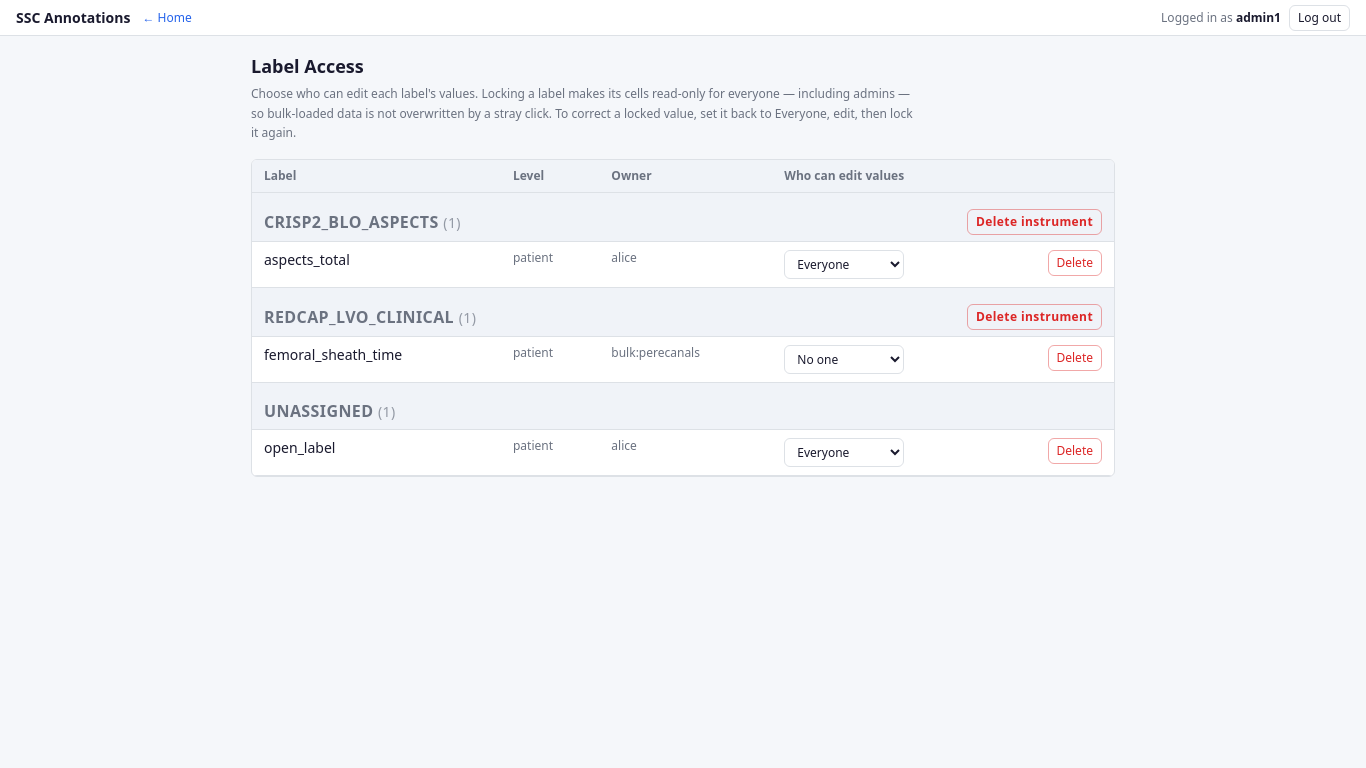
Scenario: AdminLabels page › deleting a label always confirms first, showing the plan
Expected: the text "open_label" is shown, [264, 438, 335, 456]
Click the button with aria-label "Delete label open_label": [1075, 450] box [1048, 438, 1102, 464]
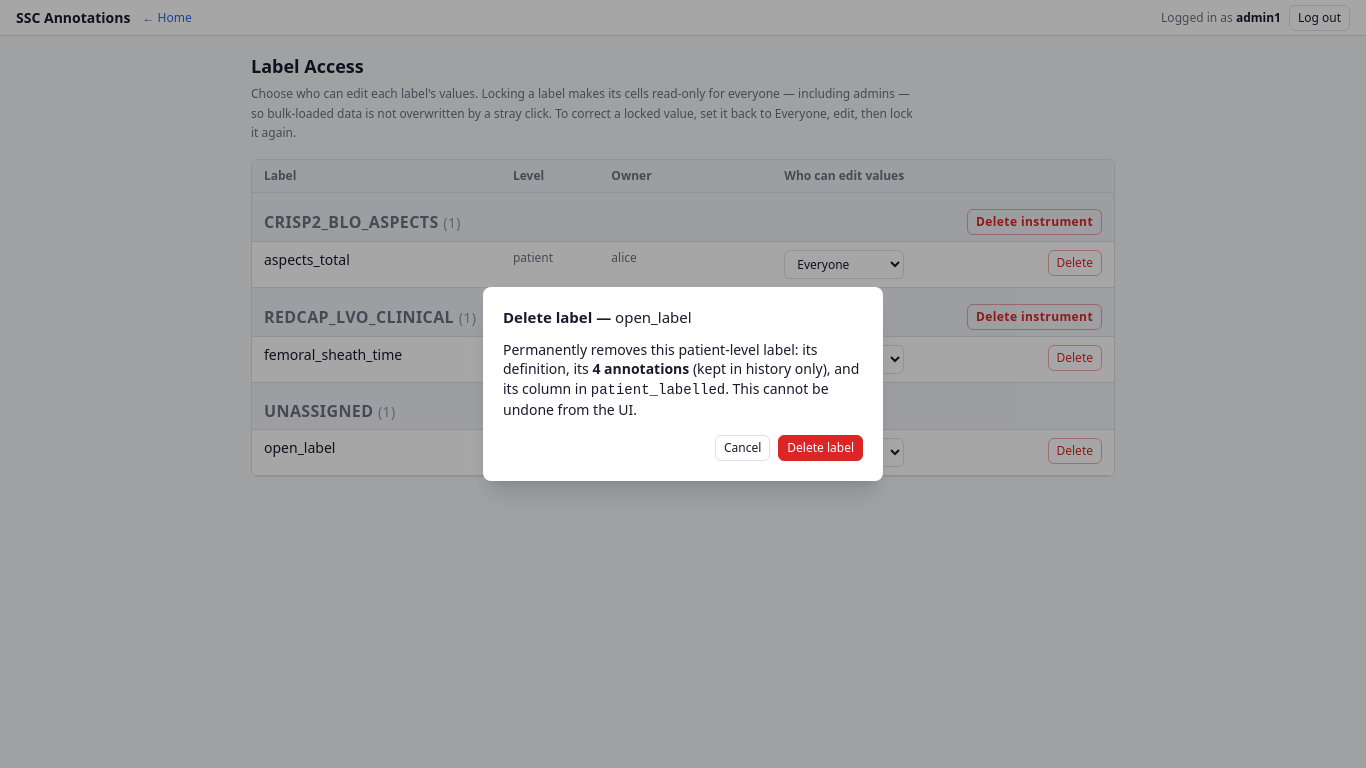
Expected: the text "4 annotations" is shown, [592, 360, 689, 378]
Click the button "Delete label": [821, 448] box [778, 435, 863, 461]
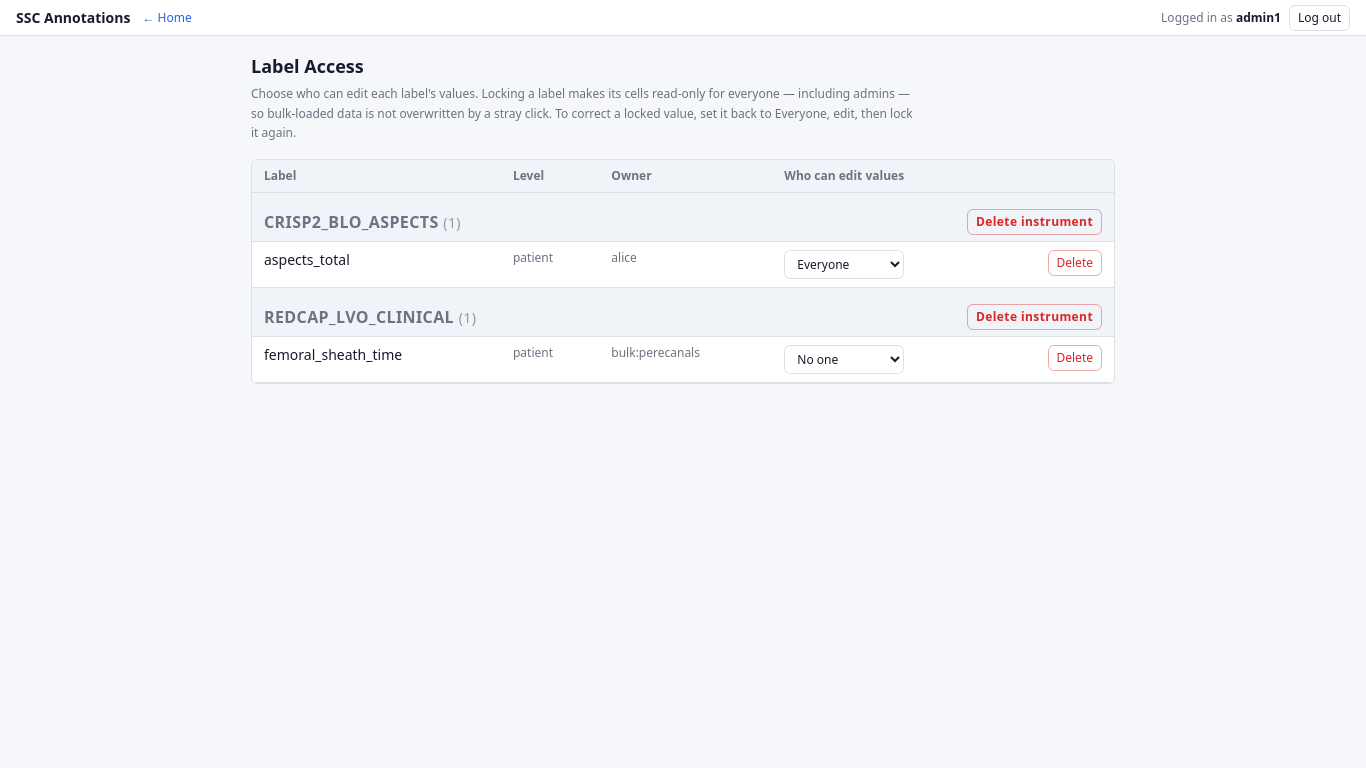
Expected: the text "open_label" is gone
